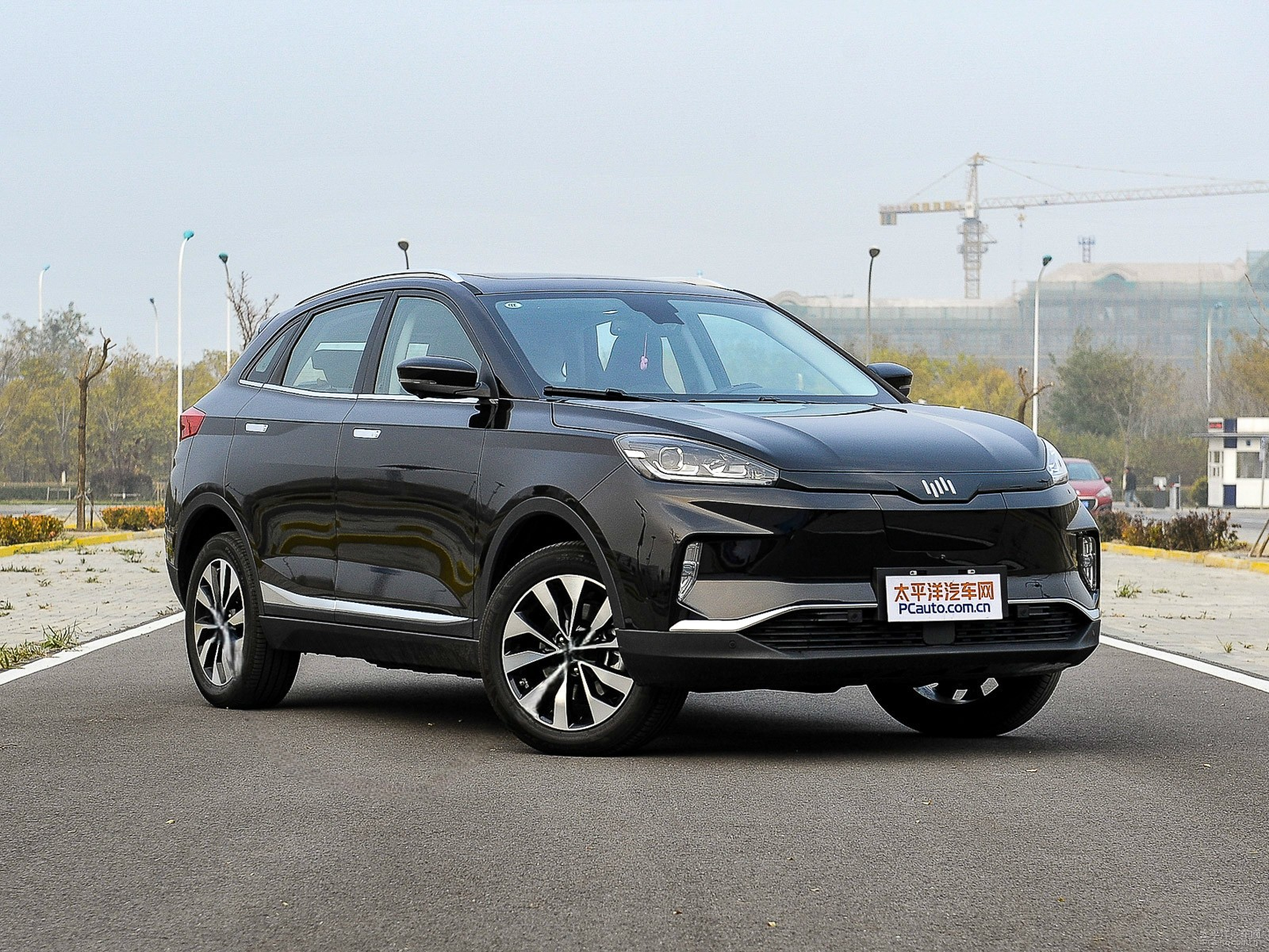WELTMEISTER: (922, 477, 957, 498)
